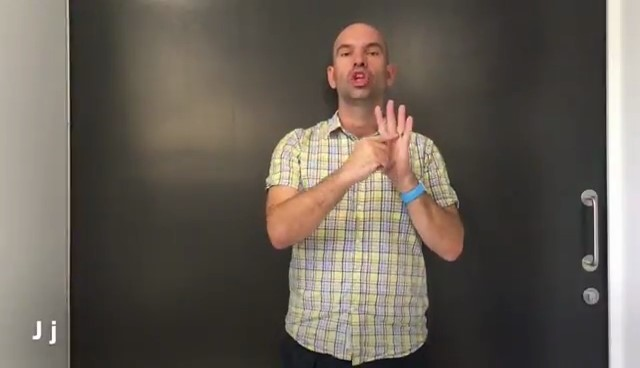J: (331, 92, 430, 198)
